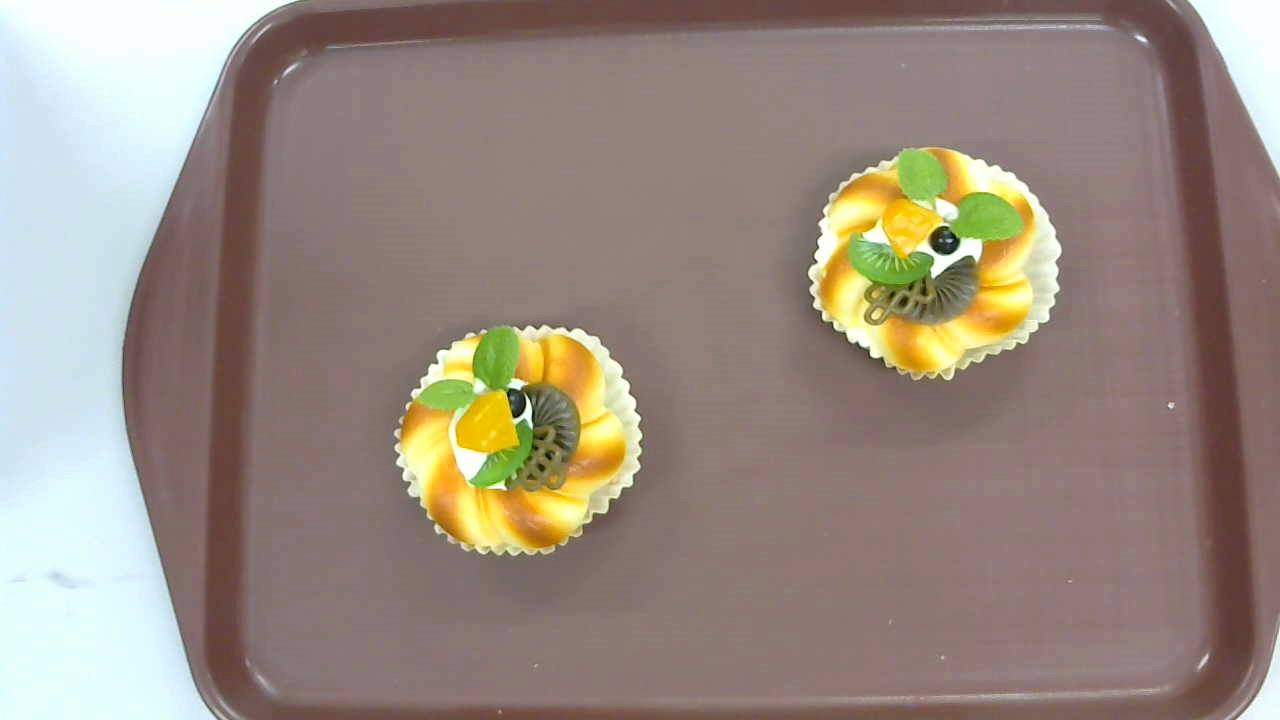fruit tart: (808, 145, 1063, 382), (393, 323, 644, 557)
